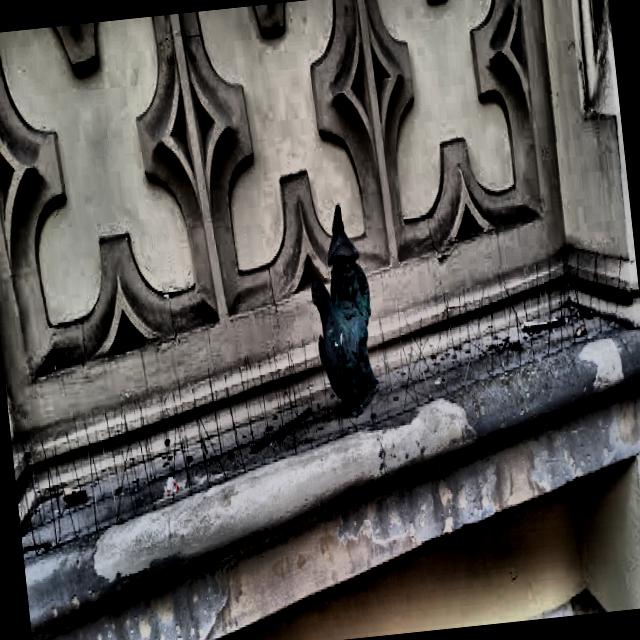Golebnik: (311, 205, 379, 412)
